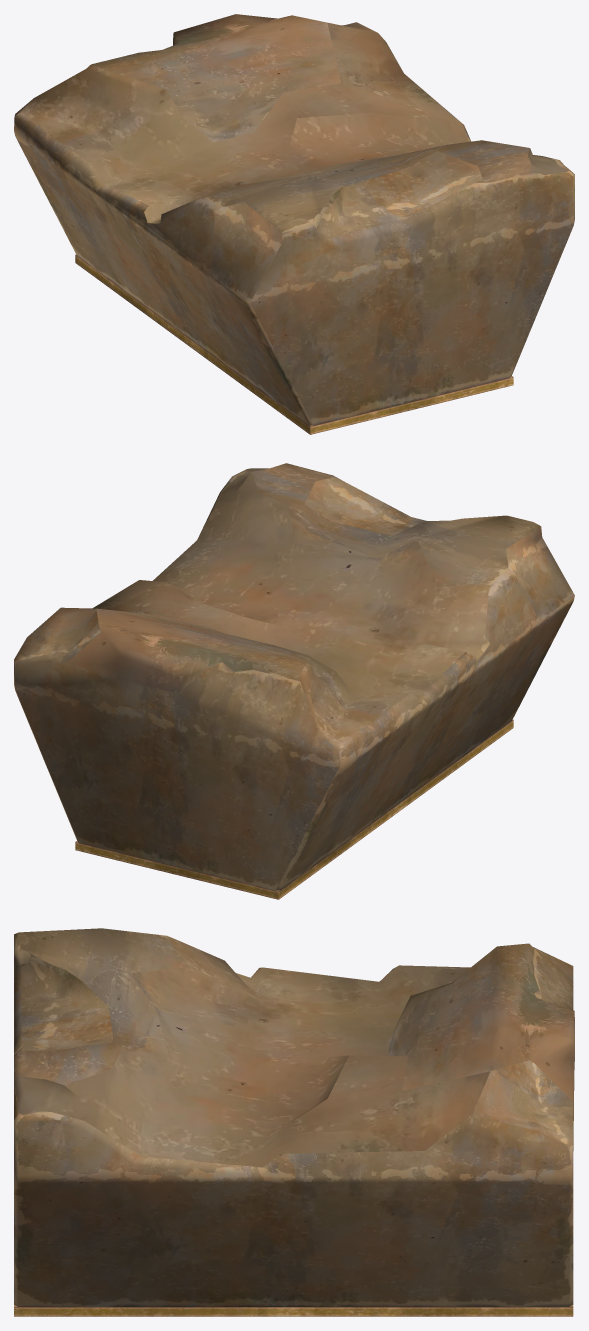
3 views of the same model, one above another, from view 1: azimuth 30°, elevation 25°; view 2: azimuth 150°, elevation 25°; view 3: azimuth 270°, elevation 25° (orthographic). The views are drawn at different scales.
Parts seen in each view (by area): view 1: SM_DK_Crumbled_WallTop_05_LOD0; view 2: SM_DK_Crumbled_WallTop_05_LOD0; view 3: SM_DK_Crumbled_WallTop_05_LOD0.
Part boxes in pixels (<box>): SM_DK_Crumbled_WallTop_05_LOD0: <box>14,14,574,434</box>; SM_DK_Crumbled_WallTop_05_LOD0: <box>14,463,574,899</box>; SM_DK_Crumbled_WallTop_05_LOD0: <box>14,928,574,1316</box>.
Size of the model in its own units: 3.25 by 2.01 by 4.01.
